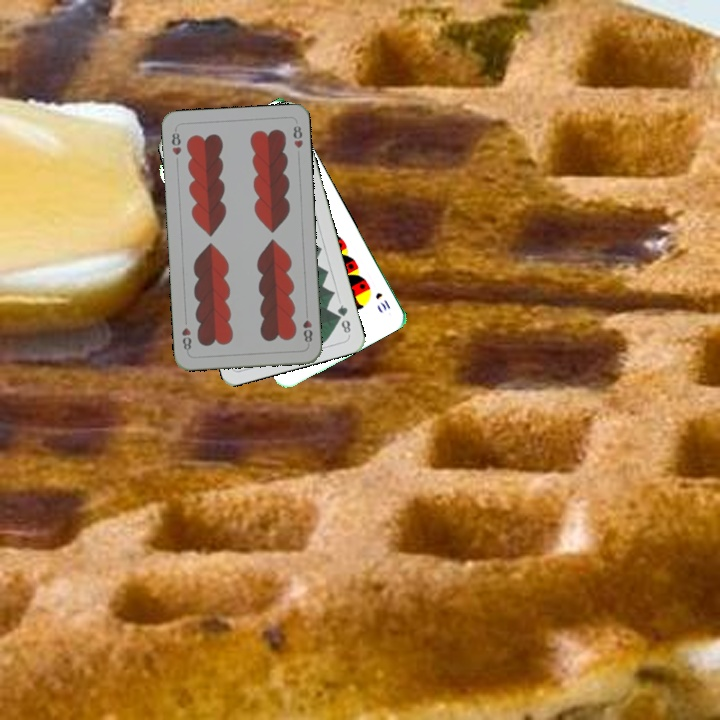G8: (333, 300, 353, 336)
H8: (299, 307, 315, 345), (168, 126, 184, 158)
S10: (371, 288, 393, 313)
